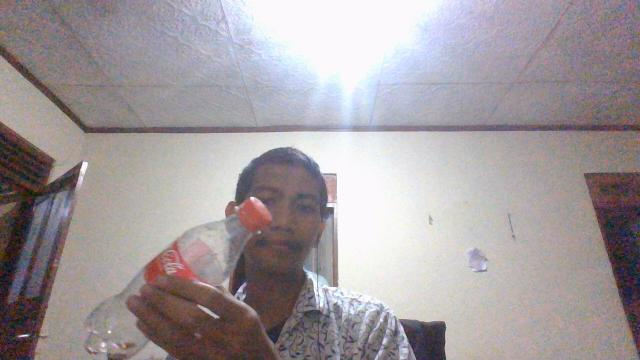coca-cola: (83, 196, 273, 358)
